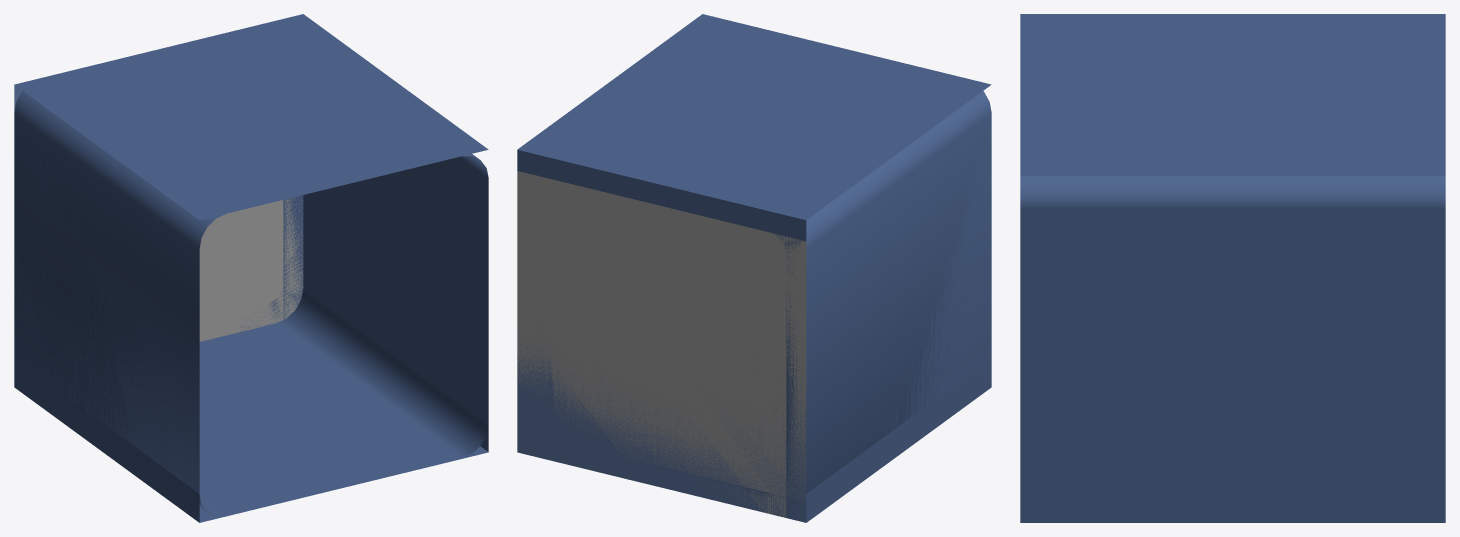
Rendered from Wall.fbx.
3 renders of one model, left to right at view 1: azimuth 30°, elevation 25°; view 2: azimuth 150°, elevation 25°; view 3: azimuth 270°, elevation 25°, orthographic. The views are drawn at different scales.
Visible parts, largest first — view 1: WallIsolated, WallEdge, WallCorner, Wall3Sides, Wall2Opposite; view 2: WallIsolated, Wall3Sides, WallEdge, WallCorner, Wall4Sides, Wall2Opposite; view 3: WallIsolated, WallEdge, WallCorner, Wall2Opposite, Wall3Sides.
Boxes of the visible parts, box(x1,y1,x2,y2) form: WallIsolated: box(14, 21, 488, 516); WallEdge: box(14, 114, 488, 522); WallCorner: box(43, 14, 488, 314); Wall3Sides: box(38, 14, 325, 341); Wall2Opposite: box(14, 78, 488, 522); WallIsolated: box(531, 21, 991, 511); Wall3Sides: box(517, 138, 806, 418); WallEdge: box(532, 116, 991, 522); WallCorner: box(517, 14, 961, 519); Wall4Sides: box(517, 306, 806, 522); Wall2Opposite: box(517, 78, 991, 504); WallIsolated: box(1020, 29, 1445, 489); WallEdge: box(1020, 209, 1445, 522); WallCorner: box(1020, 29, 1445, 175); Wall2Opposite: box(1020, 14, 1445, 34); Wall3Sides: box(1352, 14, 1445, 175).
Bounding box in the file's own units: 200 × 200 × 222.
